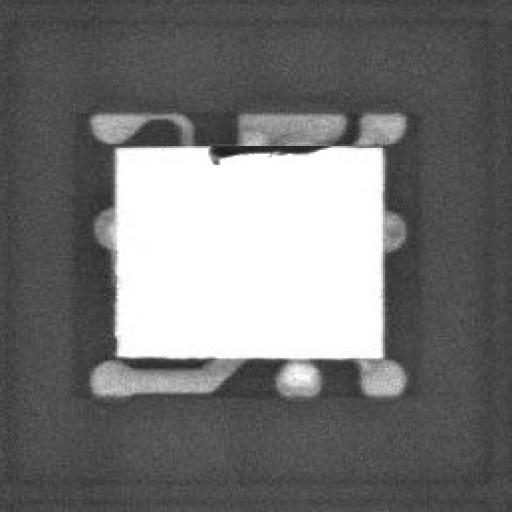DIE_BROKEN: (200, 136, 334, 160)
